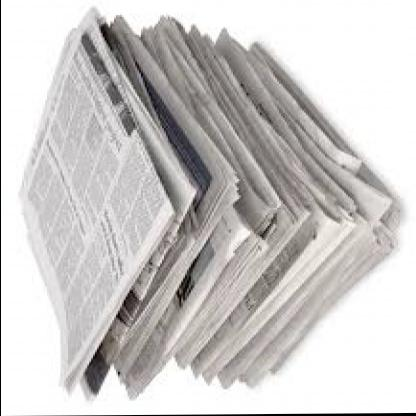Paper: (14, 1, 412, 408)
